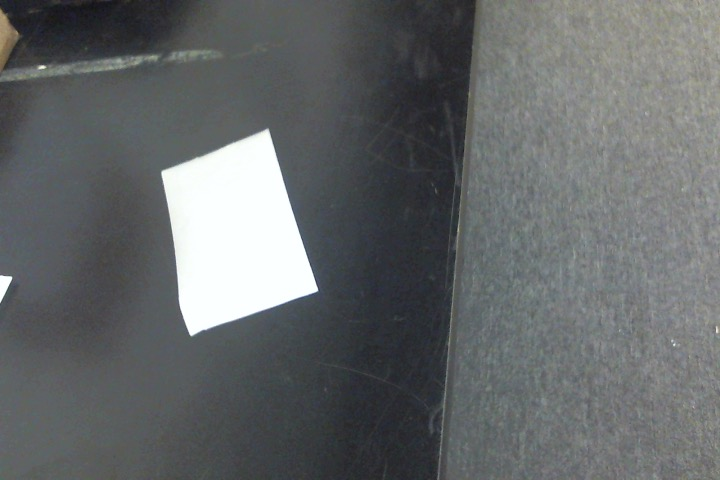Tape: (160, 128, 319, 338)
